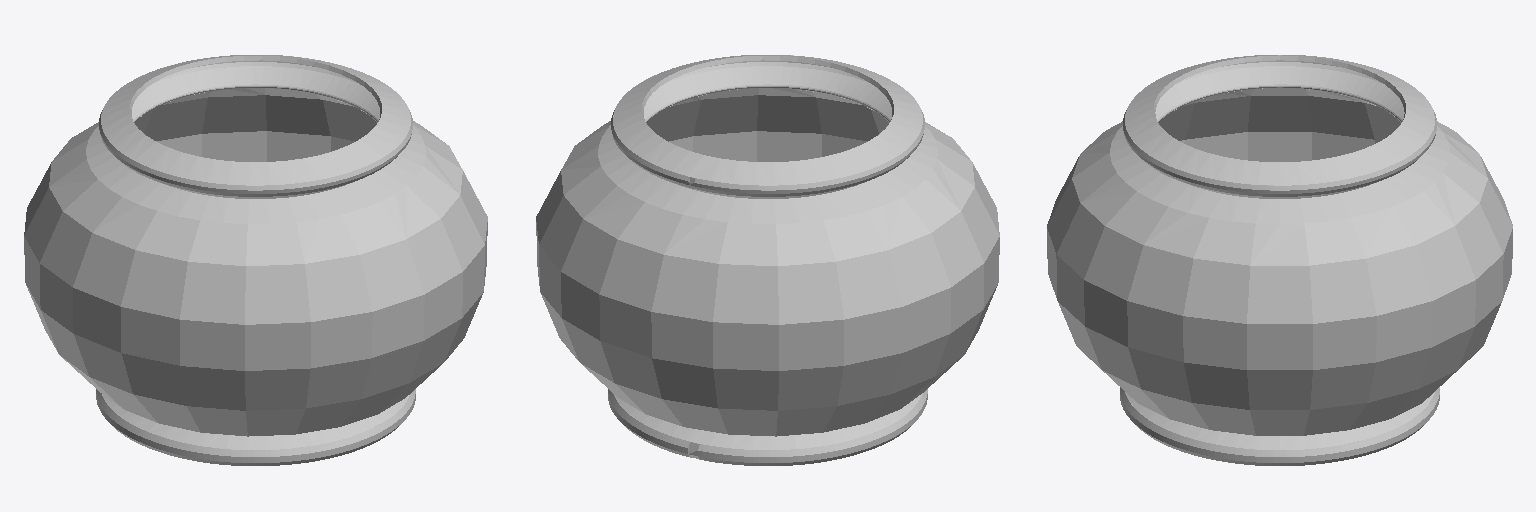
The model's file is SandCastleExport.obj.
3 renders of one model, left to right at view 1: azimuth 30°, elevation 25°; view 2: azimuth 150°, elevation 25°; view 3: azimuth 270°, elevation 25°, orthographic.
Visible parts, largest first — view 1: Fishbowl; view 2: Fishbowl; view 3: Fishbowl.
Boxes of the visible parts, box(x1,y1,x2,y2) form: Fishbowl: box(24, 55, 487, 465); Fishbowl: box(536, 55, 999, 465); Fishbowl: box(1047, 55, 1512, 465).
Size of the model in its own units: 33.29 by 23.41 by 33.64.